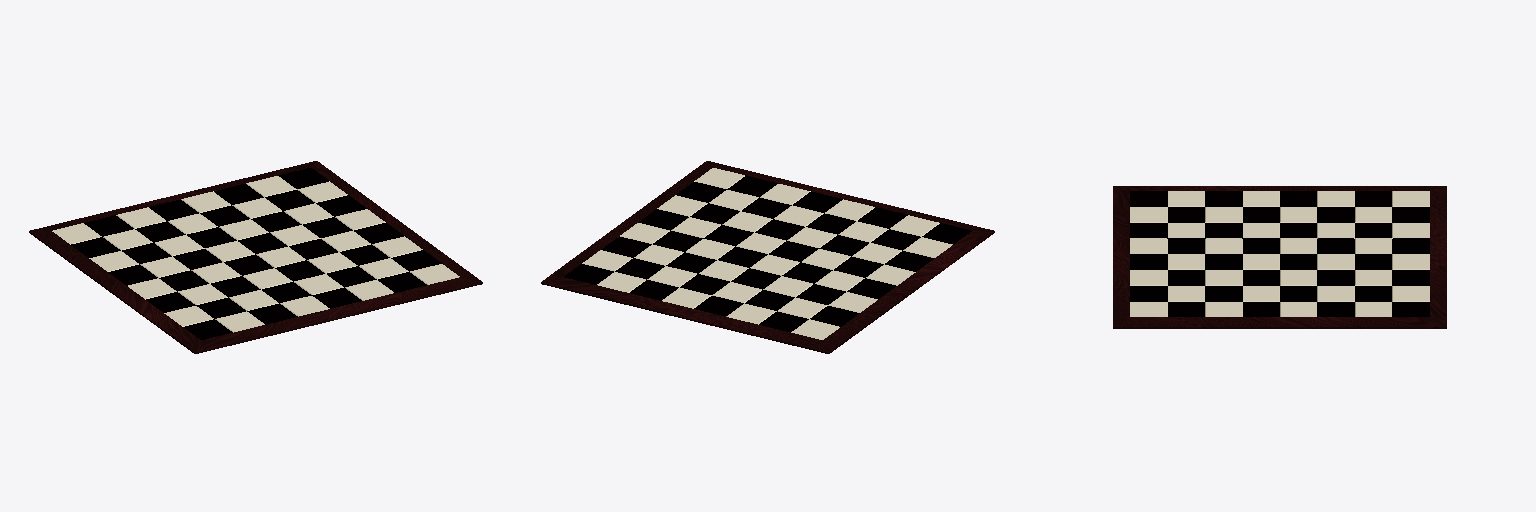
3 renders of one model, left to right at view 1: azimuth 30°, elevation 25°; view 2: azimuth 150°, elevation 25°; view 3: azimuth 270°, elevation 25°, orthographic.
Parts seen in each view (by area): view 1: Plane.001, Plane; view 2: Plane.001, Plane; view 3: Plane.001, Plane.
Boxes of the visible parts, <box> form: Plane.001: <box>52,168,459,339</box>; Plane: <box>29,161,482,353</box>; Plane.001: <box>564,168,971,339</box>; Plane: <box>541,161,994,353</box>; Plane.001: <box>1130,191,1429,316</box>; Plane: <box>1113,186,1446,328</box>.
Size of the model in its own units: 10 by 0.1482 by 10.
3 materials, 1 textured.